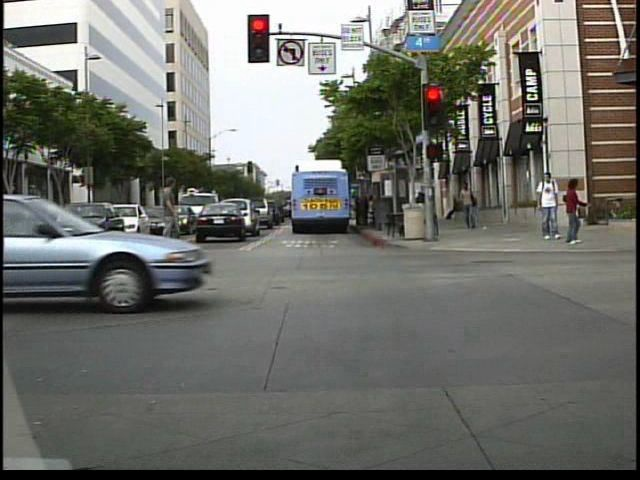person: (148, 177, 191, 250), (557, 175, 590, 246)
